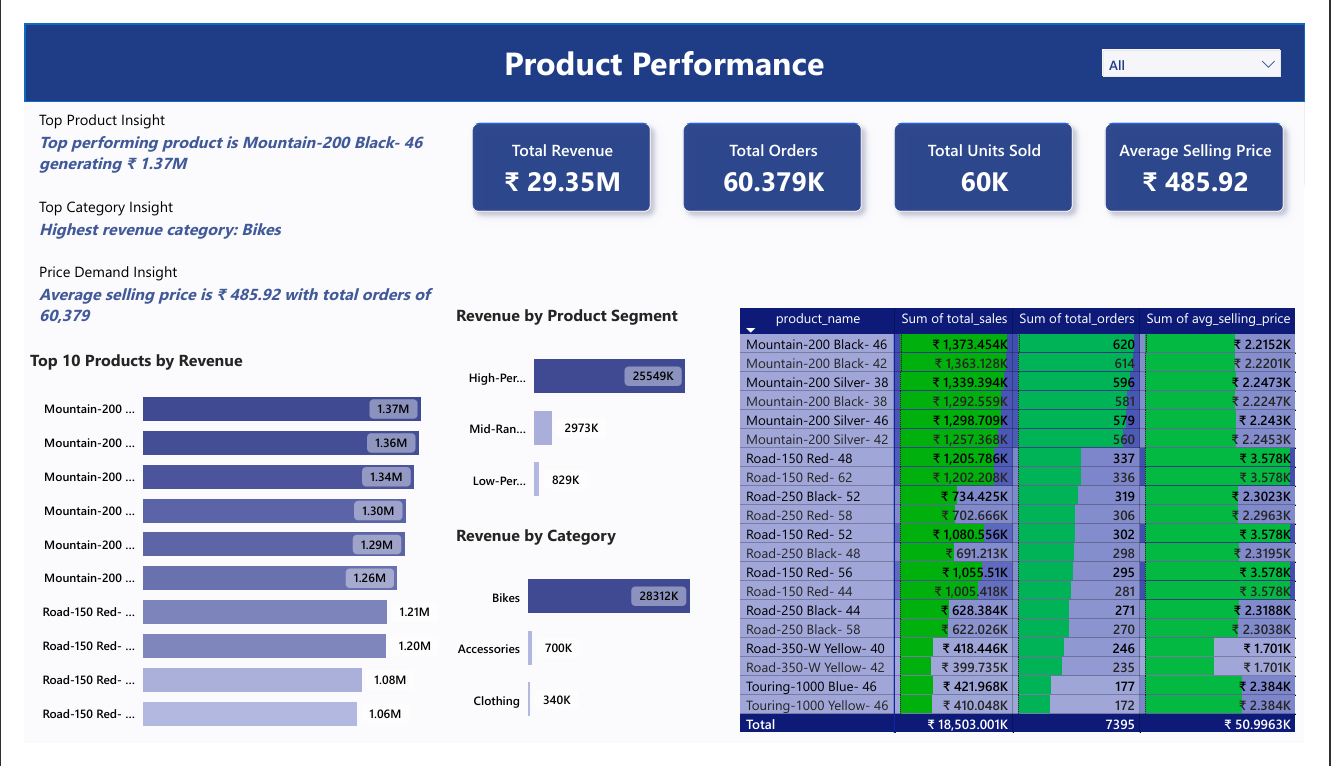

The dashboard page shown, as its layout file describes it:
{"tool":"powerbi","page":{"name":"Product Performance","canvas":[1280,720],"ordinal":2},"visuals":[{"type":"shape","box":[0,0,1280.3,78.3],"z":0},{"type":"textbox","box":[465.9,11,346.1,57.5],"z":1000},{"type":"cardVisual","fields":{"Data":["gold report_products.totalRevenue","gold report_products.totalOrders","gold report_products.total products sold","gold report_products.Average Selling Price"]},"box":[425.5,78.3,854.8,130.8],"z":2000},{"type":"barChart","title":"Top 10 Products by Revenue","fields":{"Category":["gold report_products.product_name"],"Y":["Sum(gold report_products.total_sales)"]},"box":[0,325.3,424.3,395],"z":3000},{"type":"barChart","title":"Revenue by Category","fields":{"Y":["Sum(gold report_products.total_sales)"],"Category":["gold report_products.category"]},"box":[425.5,500.1,284.9,220.1],"z":4000},{"type":"barChart","title":"Revenue by Product Segment","fields":{"Y":["Sum(gold report_products.total_sales)"],"Category":["gold report_products.product_segment"]},"box":[425.5,280,284.9,220.1],"z":5000},{"type":"pivotTable","fields":{"Rows":["gold report_products.product_name"],"Values":["Sum(gold report_products.total_sales)","Sum(gold report_products.total_orders)","Sum(gold report_products.avg_selling_price)"]},"box":[711,280,569,440],"z":6000},{"type":"slicer","fields":{"Values":["gold report_products.category","gold report_products.subcategory"]},"box":[1067.5,15.9,198.1,47.7],"z":7000},{"type":"cardVisual","fields":{"Data":["gold report_products.Top Product Insight","gold report_products.Top Category Insight","gold report_products.Price Demand Insight"]},"box":[1.2,78.3,424.3,229.9],"z":8000}]}

Visuals, with their boxes in screenshot pixels (x1, y1, x2, y2), scaled from the page's 1280x720 canvas onto the 1331x766 screenshot:
shape: bbox=[0, 0, 1330, 83]
textbox: bbox=[484, 12, 844, 73]
cardVisual - gold report_products.totalRevenue x gold report_products.totalOrders: bbox=[442, 83, 1330, 222]
"Top 10 Products by Revenue" barChart: bbox=[0, 346, 441, 765]
"Revenue by Category" barChart: bbox=[442, 532, 739, 765]
"Revenue by Product Segment" barChart: bbox=[442, 298, 739, 532]
pivotTable - gold report_products.product_name x Sum(gold report_products.total_sales): bbox=[739, 298, 1330, 765]
slicer - gold report_products.category x gold report_products.subcategory: bbox=[1110, 17, 1316, 68]
cardVisual - gold report_products.Top Product Insight x gold report_products.Top Category Insight: bbox=[1, 83, 442, 328]
